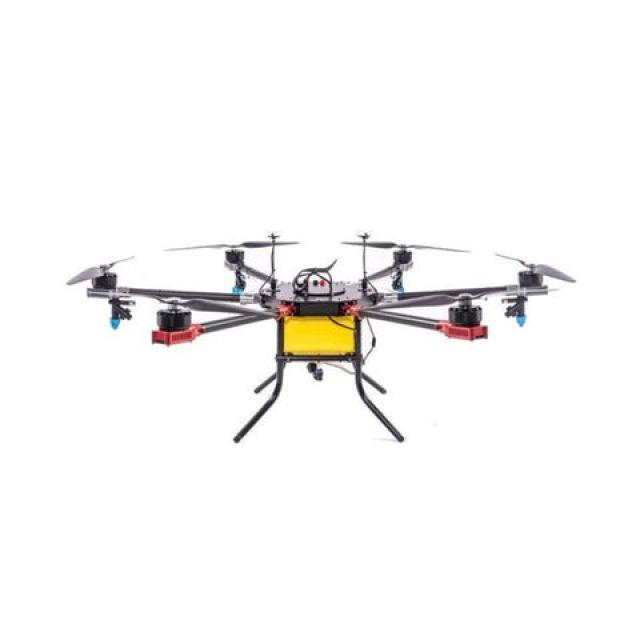drone: (65, 199, 569, 431)
